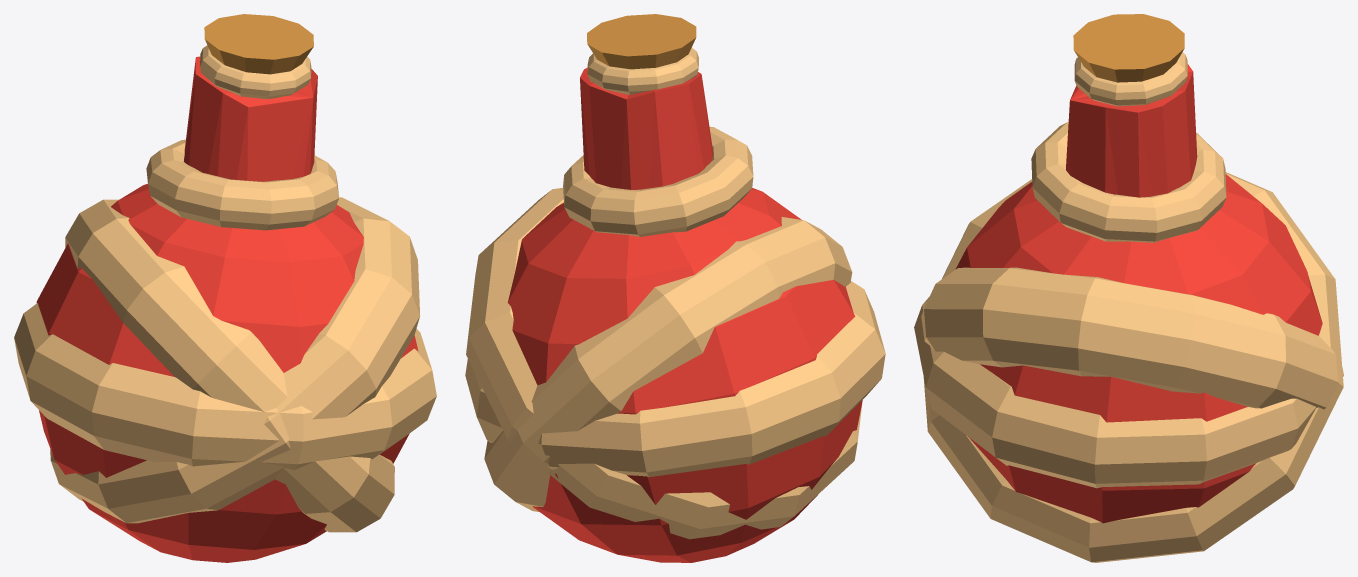
File: BPotion_Dillan.fbx
3 renders of one model, left to right at view 1: azimuth 30°, elevation 25°; view 2: azimuth 150°, elevation 25°; view 3: azimuth 270°, elevation 25°, orthographic.
Parts seen in each view (by area): view 1: mesh_2023006961, mesh_431412108, mesh_1679088519, mesh_689989427, mesh_1172791468, mesh_122408657, mesh_138093185, mesh_1231722450; view 2: mesh_2023006961, mesh_689989427, mesh_431412108, mesh_1679088519, mesh_1172791468, mesh_122408657, mesh_138093185, mesh_1231722450; view 3: mesh_2023006961, mesh_1679088519, mesh_431412108, mesh_689989427, mesh_1172791468, mesh_122408657, mesh_138093185, mesh_1231722450.
Part boxes in pixels (x1=…): mesh_2023006961: x1=36, y1=183, x2=418, y2=562; mesh_431412108: x1=14, y1=303, x2=436, y2=470; mesh_1679088519: x1=50, y1=197, x2=420, y2=523; mesh_689989427: x1=65, y1=199, x2=394, y2=532; mesh_1172791468: x1=183, y1=56, x2=317, y2=181; mesh_122408657: x1=146, y1=139, x2=338, y2=230; mesh_138093185: x1=204, y1=14, x2=313, y2=74; mesh_1231722450: x1=200, y1=45, x2=311, y2=99; mesh_2023006961: x1=507, y1=188, x2=862, y2=562; mesh_689989427: x1=484, y1=217, x2=852, y2=511; mesh_431412108: x1=465, y1=281, x2=885, y2=477; mesh_1679088519: x1=466, y1=188, x2=862, y2=539; mesh_1172791468: x1=580, y1=67, x2=713, y2=189; mesh_122408657: x1=563, y1=126, x2=753, y2=236; mesh_138093185: x1=587, y1=14, x2=696, y2=69; mesh_1231722450: x1=587, y1=47, x2=698, y2=94; mesh_2023006961: x1=955, y1=174, x2=1322, y2=523; mesh_1679088519: x1=921, y1=267, x2=1337, y2=409; mesh_431412108: x1=914, y1=296, x2=1343, y2=488; mesh_689989427: x1=923, y1=172, x2=1343, y2=562; mesh_1172791468: x1=1066, y1=64, x2=1197, y2=197; mesh_122408657: x1=1031, y1=122, x2=1226, y2=242; mesh_138093185: x1=1073, y1=14, x2=1184, y2=82; mesh_1231722450: x1=1074, y1=52, x2=1187, y2=106.
Size of the model in its own units: 14.85 by 19.57 by 14.95.
